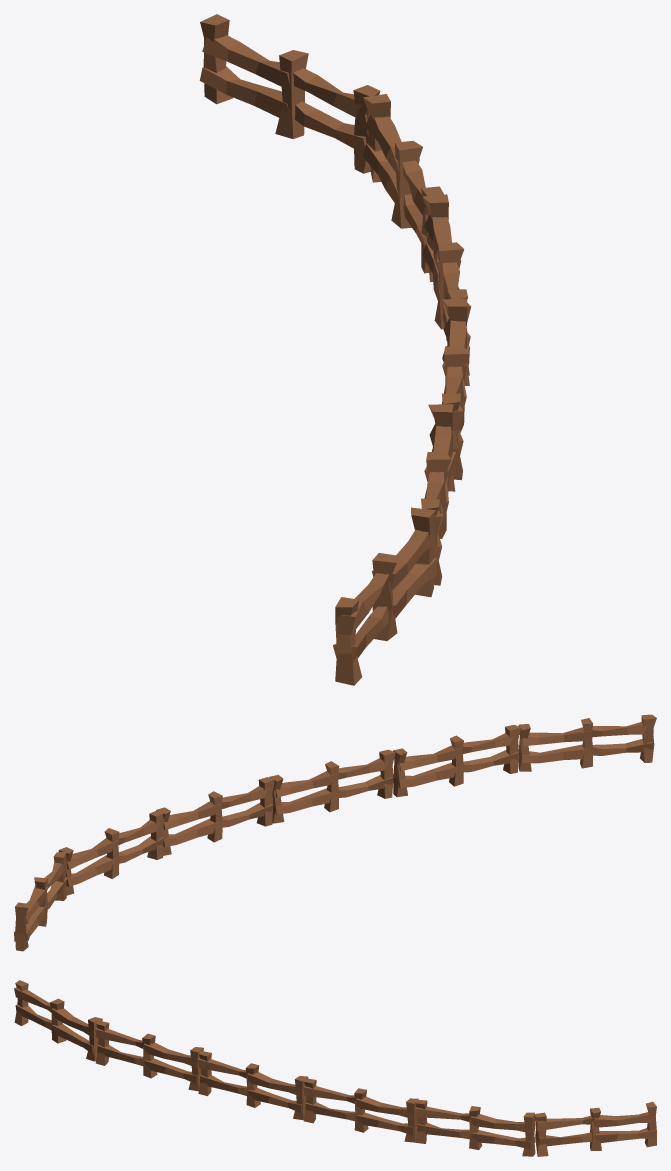
The model's file is fences.glb.
3 views of the same model, one above another, from view 1: azimuth 30°, elevation 25°; view 2: azimuth 150°, elevation 25°; view 3: azimuth 270°, elevation 25° (orthographic). The views are drawn at different scales.
Visible parts, largest first — view 1: Fence.005, Fence, Fence.004, Fence.003, Fence.001, Fence.002; view 2: Fence, Fence.001, Fence.002, Fence.003, Fence.004, Fence.005; view 3: Fence.004, Fence.005, Fence.003, Fence.002, Fence.001, Fence.
Part boxes in pixels (x1,y1,x2,y2): Fence.005: (199, 14, 380, 173); Fence: (333, 507, 437, 685); Fence.004: (363, 94, 443, 273); Fence.003: (422, 194, 471, 375); Fence.001: (421, 404, 455, 585); Fence.002: (442, 298, 469, 480); Fence: (518, 714, 656, 771); Fence.001: (393, 724, 520, 797); Fence.002: (269, 749, 395, 823); Fence.003: (156, 777, 274, 855); Fence.004: (58, 810, 164, 895); Fence.005: (14, 852, 67, 951); Fence.004: (415, 1099, 535, 1156); Fence.005: (534, 1101, 656, 1156); Fence.003: (303, 1078, 418, 1142); Fence.002: (198, 1051, 308, 1120); Fence.001: (95, 1020, 203, 1091); Fence: (14, 980, 102, 1061).
Size of the model in its own units: 66.54 by 8.8 by 131.
